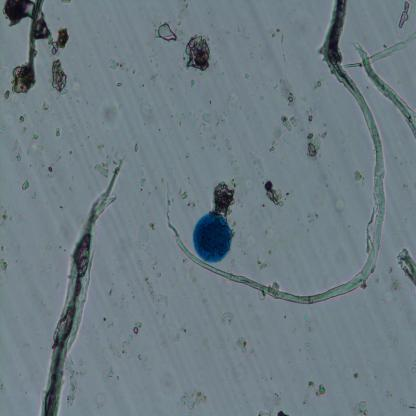Background material: (3, 0, 50, 96), (141, 253, 165, 310), (183, 33, 212, 74), (260, 20, 287, 54), (117, 320, 141, 358), (258, 383, 287, 414), (100, 96, 125, 130), (211, 181, 236, 215), (393, 0, 413, 39), (262, 178, 285, 209), (48, 60, 68, 95), (179, 388, 209, 409), (152, 21, 180, 43), (65, 361, 78, 405), (134, 103, 154, 131), (50, 27, 70, 54), (306, 130, 321, 164), (90, 130, 111, 153), (147, 54, 162, 84), (26, 137, 42, 163), (305, 380, 325, 398), (44, 160, 60, 181), (341, 364, 359, 382), (94, 160, 111, 179), (135, 226, 150, 247), (259, 249, 275, 268), (69, 79, 84, 97), (12, 137, 22, 163), (352, 400, 369, 415), (236, 334, 248, 354), (284, 89, 296, 109), (279, 115, 293, 132), (223, 310, 236, 328), (352, 169, 365, 187), (101, 368, 114, 382), (224, 135, 234, 151), (202, 112, 214, 125), (109, 56, 120, 70), (0, 257, 8, 275), (273, 125, 281, 143), (177, 187, 188, 200), (314, 79, 324, 93), (160, 338, 170, 352), (105, 287, 116, 299), (139, 174, 146, 192), (18, 112, 28, 123), (22, 179, 31, 191), (115, 79, 124, 90), (54, 125, 61, 139), (188, 78, 197, 88), (172, 333, 181, 343), (290, 115, 298, 126), (30, 132, 40, 140), (122, 298, 127, 312), (3, 89, 10, 99), (244, 72, 250, 81), (133, 144, 139, 152)
Cellulose filter fibre: (38, 160, 124, 414), (321, 0, 387, 304), (163, 208, 346, 305), (353, 41, 416, 140), (344, 30, 416, 68), (398, 247, 416, 287)
